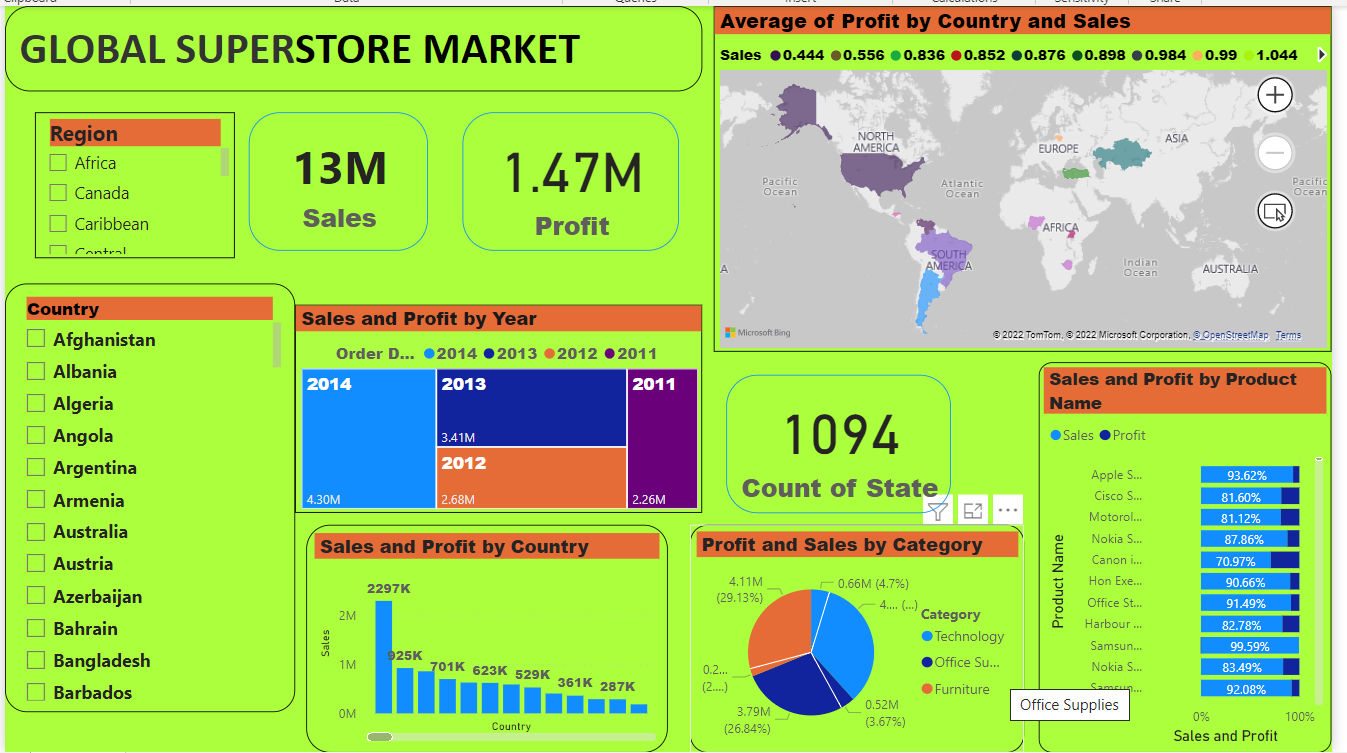

Layout of this report page (visuals, bound fields, positions):
{"tool":"powerbi","page":{"name":"Page 1","canvas":[1280,720],"ordinal":0},"visuals":[{"type":"slicer","fields":{"Values":["Orders$FilterDatabase.Region"]},"box":[28.9,102.5,193,141.1],"z":0},{"type":"slicer","fields":{"Values":["Orders$FilterDatabase.Country"]},"box":[0,267.7,279.8,413.7],"z":1000},{"type":"clusteredColumnChart","fields":{"Category":["Orders$FilterDatabase.Country"],"Y":["Sum(Orders$FilterDatabase.Sales)"]},"box":[291.2,499.9,348.8,219.7],"z":2000},{"type":"pieChart","fields":{"Y":["Sum(Orders$FilterDatabase.Profit)","Sum(Orders$FilterDatabase.Sales)"],"Category":["Orders$FilterDatabase.Category"]},"box":[660.6,499.9,322.7,219.7],"z":3000},{"type":"filledMap","fields":{"Category":["Orders$FilterDatabase.Country"],"Series":["Orders$FilterDatabase.Sales"],"Y":["Avg(Orders$FilterDatabase.Profit)"]},"box":[683.8,0,595.9,333.8],"z":4000},{"type":"hundredPercentStackedBarChart","fields":{"Y":["Sum(Orders$FilterDatabase.Sales)","Sum(Orders$FilterDatabase.Profit)"],"Category":["Orders$FilterDatabase.Product Name"]},"box":[997.3,343.2,282.4,377],"z":5000},{"type":"textbox","box":[0,0,673,82.4],"z":6000},{"type":"treemap","fields":{"Group":["Orders$FilterDatabase.Order Date.Variation.Date Hierarchy.Year","Orders$FilterDatabase.Order Date.Variation.Date Hierarchy.Quarter","Orders$FilterDatabase.Order Date.Variation.Date Hierarchy.Month","Orders$FilterDatabase.Order Date.Variation.Date Hierarchy.Day"],"Values":["Sum(Orders$FilterDatabase.Sales)"]},"box":[280.2,288.4,392.8,200.5],"z":7000},{"type":"card","fields":{"Values":["Sum(Orders$FilterDatabase.Sales)"]},"box":[234.8,103,173,133.2],"z":8000},{"type":"card","fields":{"Values":["Sum(Orders$FilterDatabase.Profit)"]},"box":[440.9,103,208.8,133.2],"z":9000},{"type":"card","fields":{"Values":["Count(Orders$FilterDatabase.State)"]},"box":[696.3,355.7,217,133.2],"z":10000}]}

Visuals, with their boxes in screenshot pixels (x1, y1, x2, y2):
slicer - Orders$FilterDatabase.Region: region(33, 106, 233, 252)
slicer - Orders$FilterDatabase.Country: region(4, 277, 293, 704)
clusteredColumnChart - Orders$FilterDatabase.Country x Sum(Orders$FilterDatabase.Sales): region(304, 516, 665, 743)
pieChart - Sum(Orders$FilterDatabase.Profit) x Sum(Orders$FilterDatabase.Sales): region(686, 516, 1019, 743)
filledMap - Orders$FilterDatabase.Country x Orders$FilterDatabase.Sales: region(710, 0, 1325, 345)
hundredPercentStackedBarChart - Sum(Orders$FilterDatabase.Sales) x Sum(Orders$FilterDatabase.Profit): region(1034, 355, 1325, 744)
textbox: region(4, 0, 699, 85)
treemap - Orders$FilterDatabase.Order Date.Variation.Date Hierarchy.Year x Orders$FilterDatabase.Order Date.Variation.Date Hierarchy.Quarter: region(293, 298, 699, 505)
card - Sum(Orders$FilterDatabase.Sales): region(246, 106, 425, 244)
card - Sum(Orders$FilterDatabase.Profit): region(459, 106, 675, 244)
card - Count(Orders$FilterDatabase.State): region(723, 367, 947, 505)
